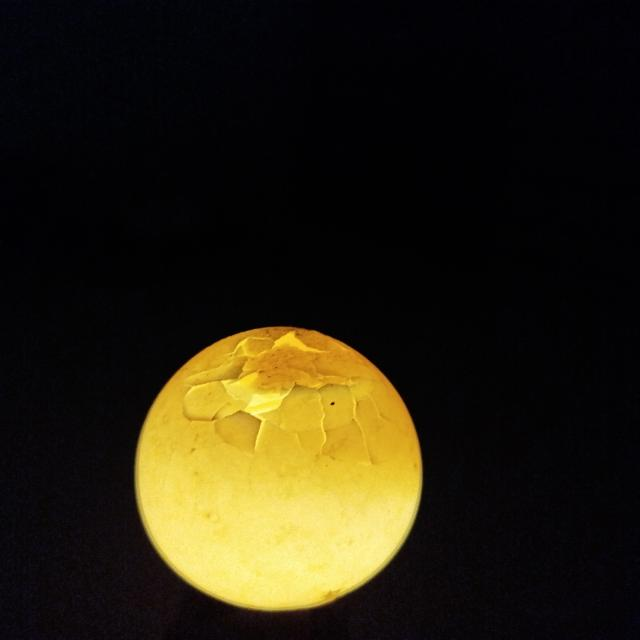Rachadura: (178, 329, 391, 468)
